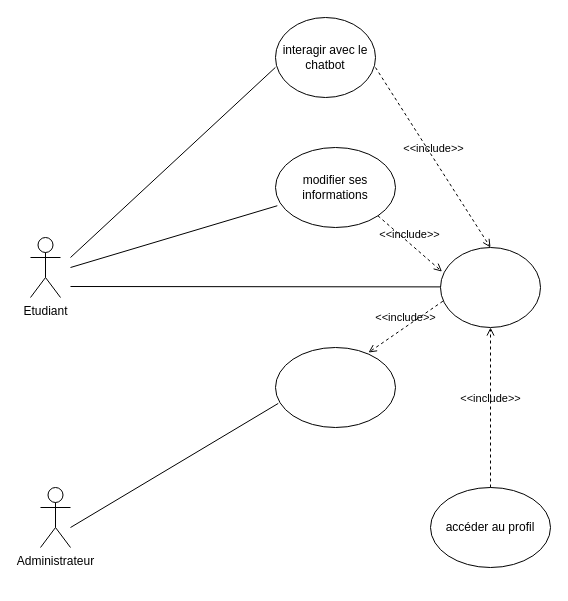
Image size: 568x601. Some labels were removed from this diagram. The centre of each missing label's shape, as x and y in pixels:
créer compte: the point at 335,387
se connecter: the point at 490,287
